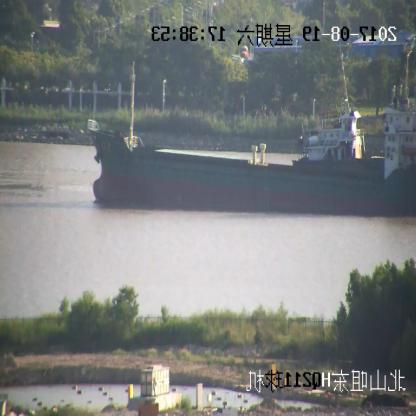Bulk Carrier: (84, 116, 416, 207)
